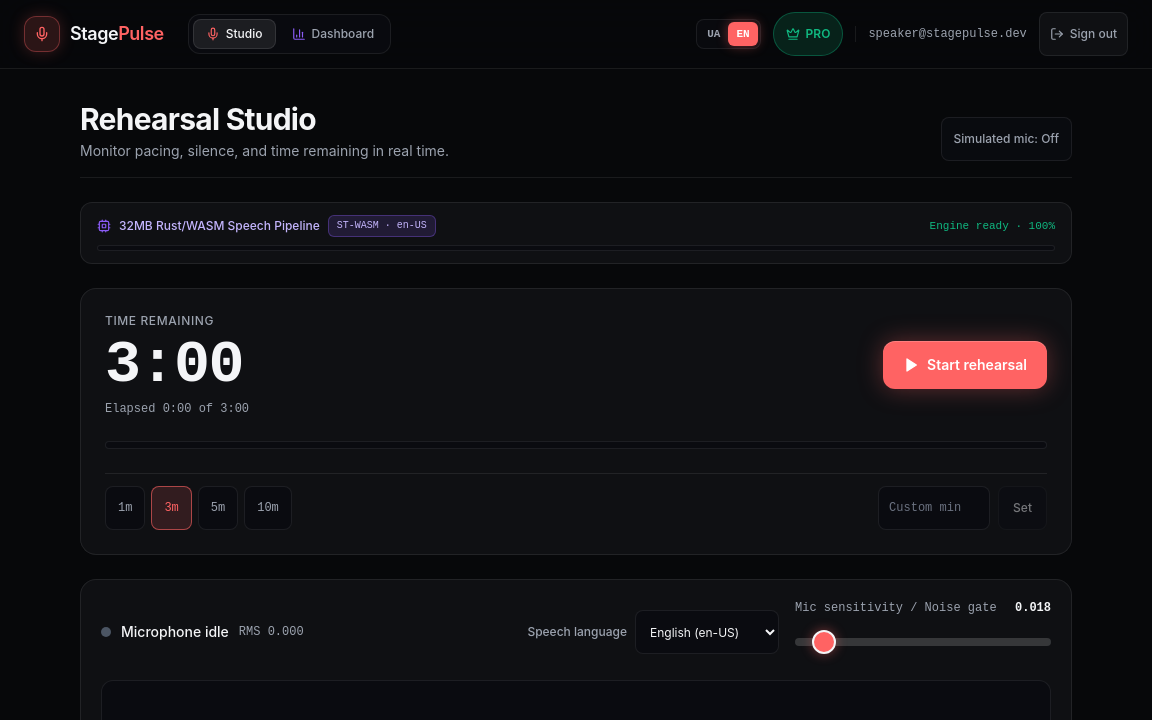
Test: App routing, ProtectedRoute, Navbar, and LiveMetricsBar › renders authenticated /practice, Navbar with email & sign out, and redirects /auth when logged in
Expected: the text "speaker@stagepulse.dev" is shown, [868,26,1027,42]
# Navigate to /dashboard via mobile/desktop link & toggle UA/EN in LanguageSwitcher
Click the button "UA".
click(714, 34)  # box [699,22,728,46]
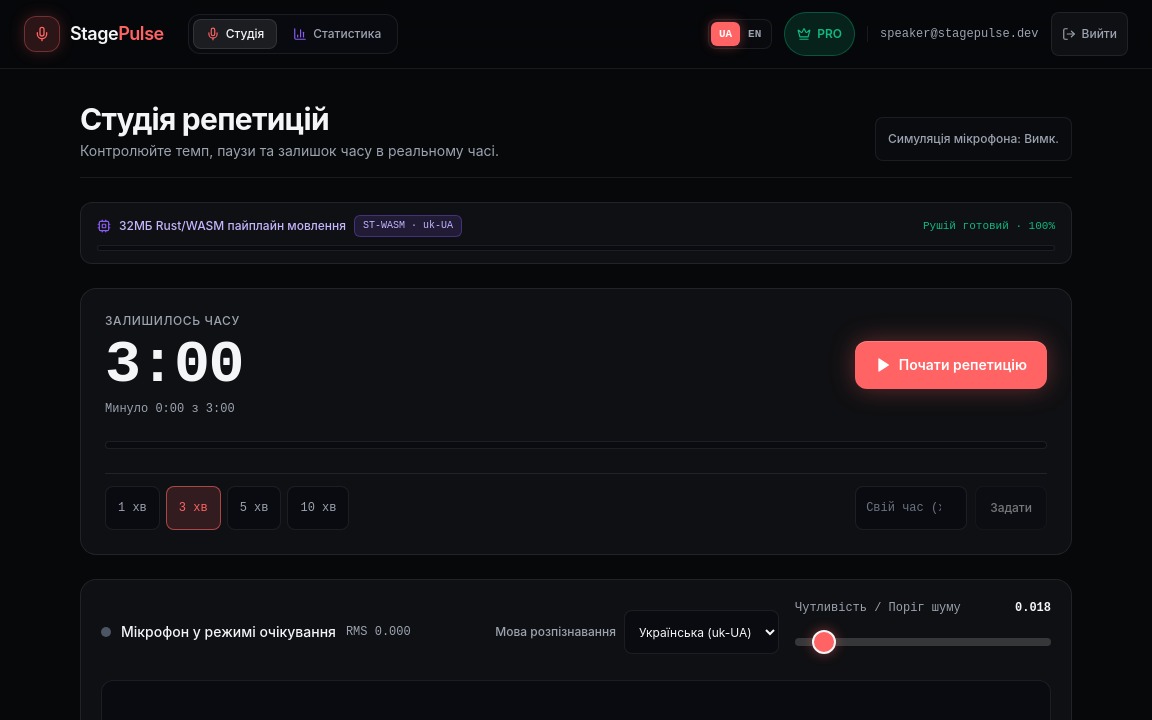
Click the button "EN".
click(755, 34)  # box [740,22,769,46]
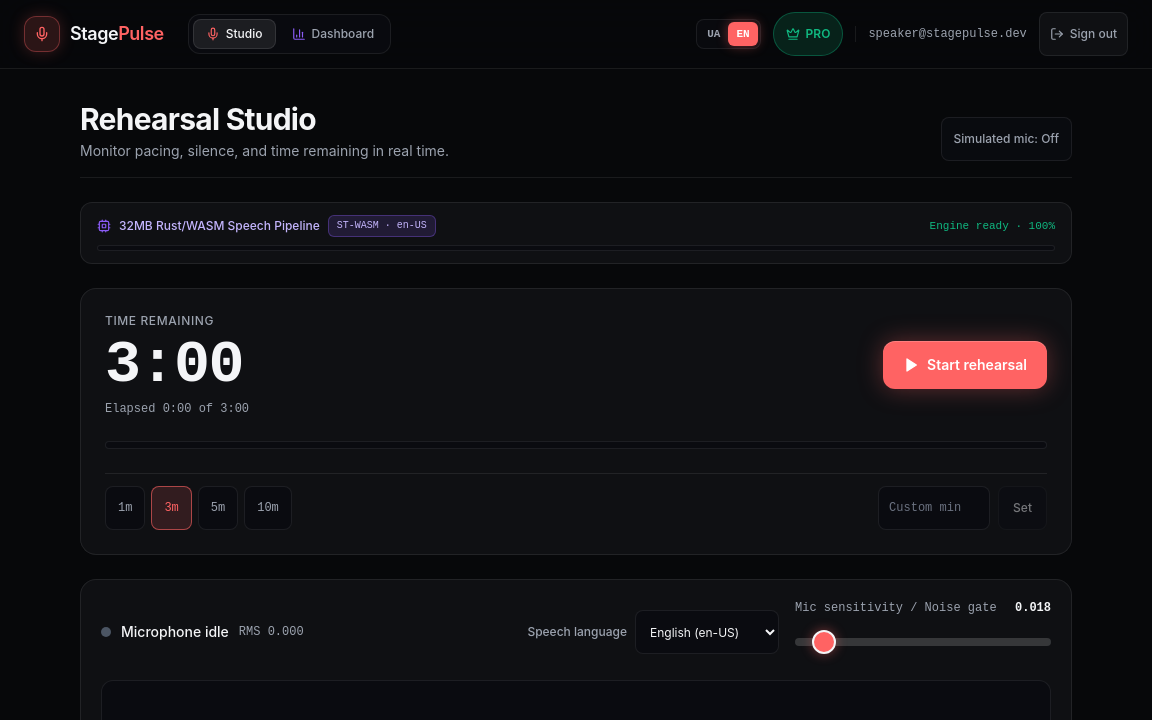
Click the link "Dashboard".
click(333, 34)  # box [292,26,374,41]
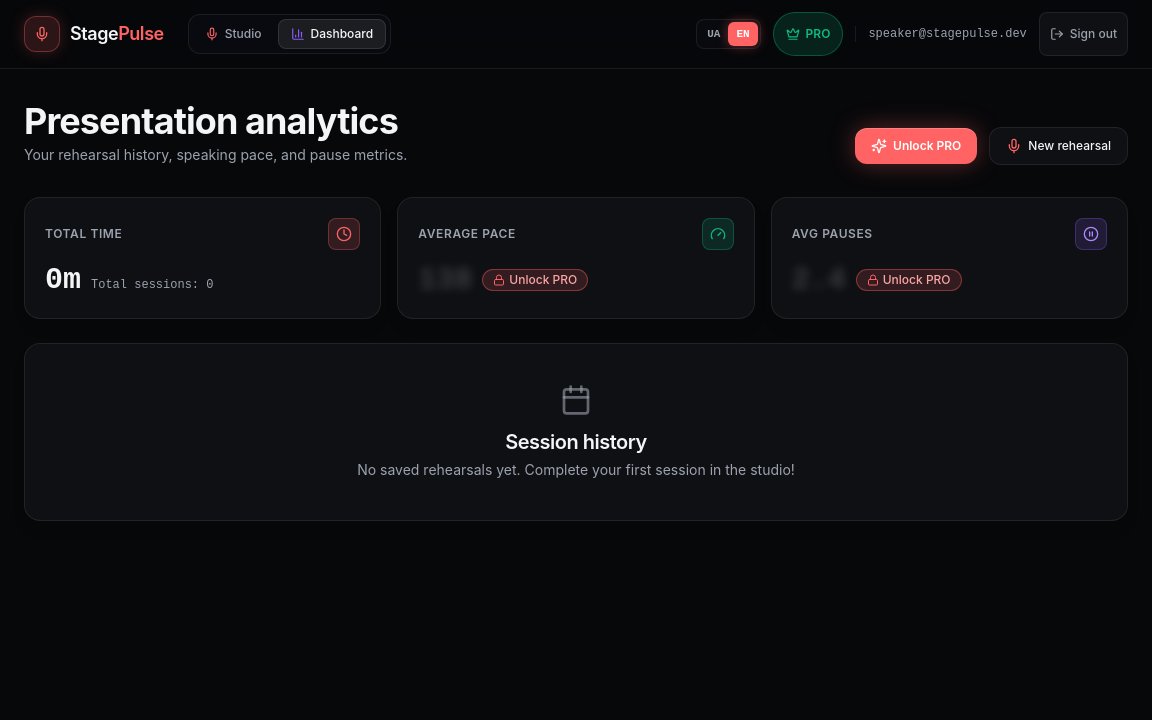
Now the heading "Presentation analytics" is shown, box [24,101,407,141]
# Sign out redirects to /auth
Click the button "Sign out".
click(1083, 34)  # box [1039,12,1128,56]
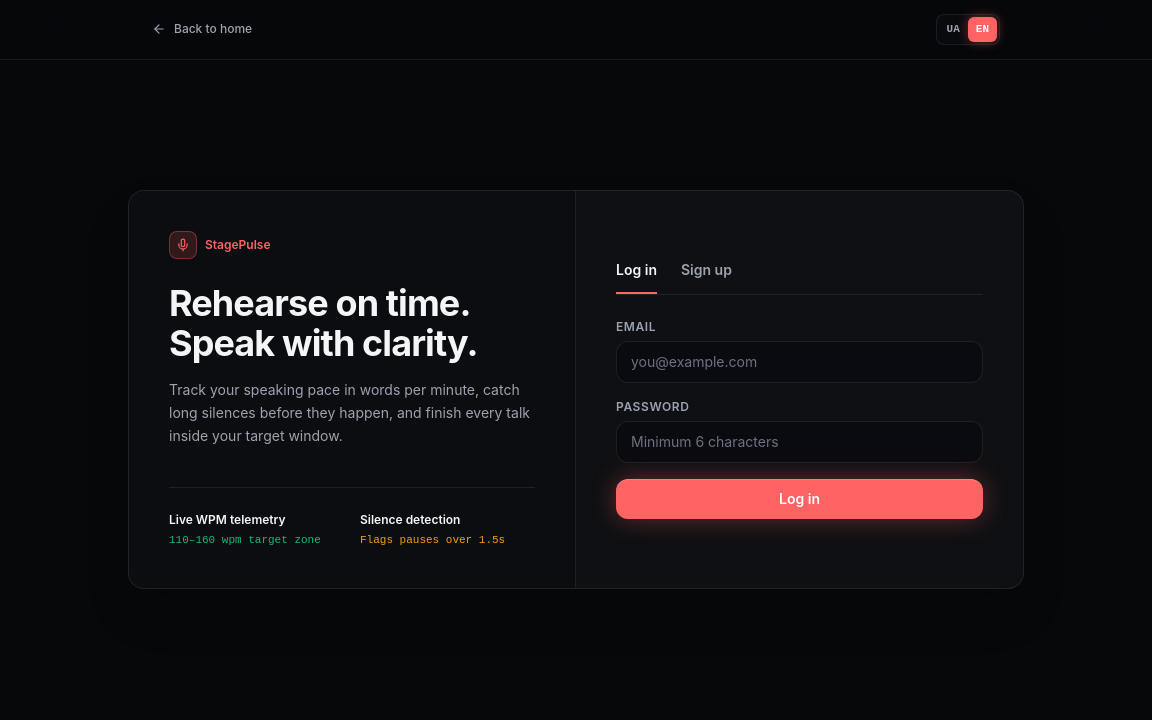
Now the tab "Log in" is shown, box [616,260,657,294]
